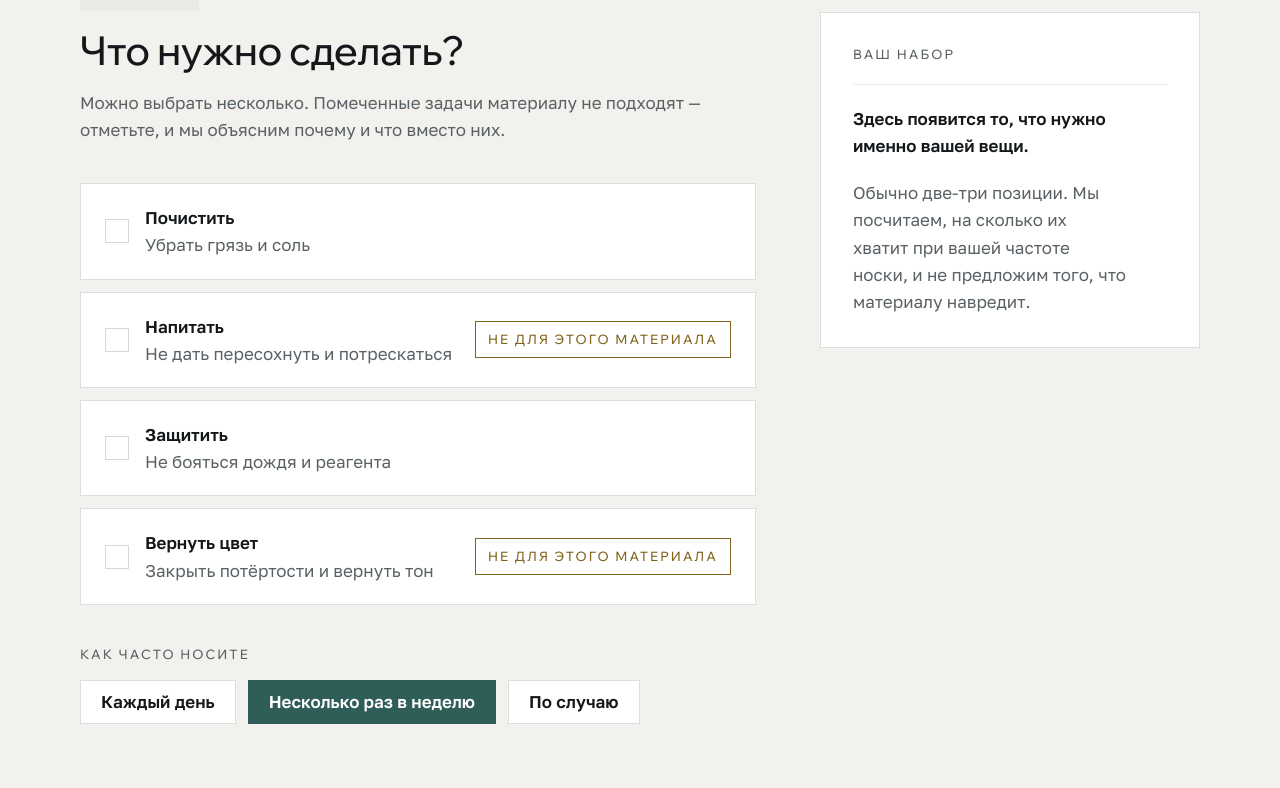
Configurator › состояние 3: конфликт объясняется, предлагает замену, флажок остаётся отмечен
This screenshot has width=1280, height=788.
(page scrolled)
Click the checkbox labelled "Вернуть цвет".
click(202, 543)  # box [80,508,756,605]
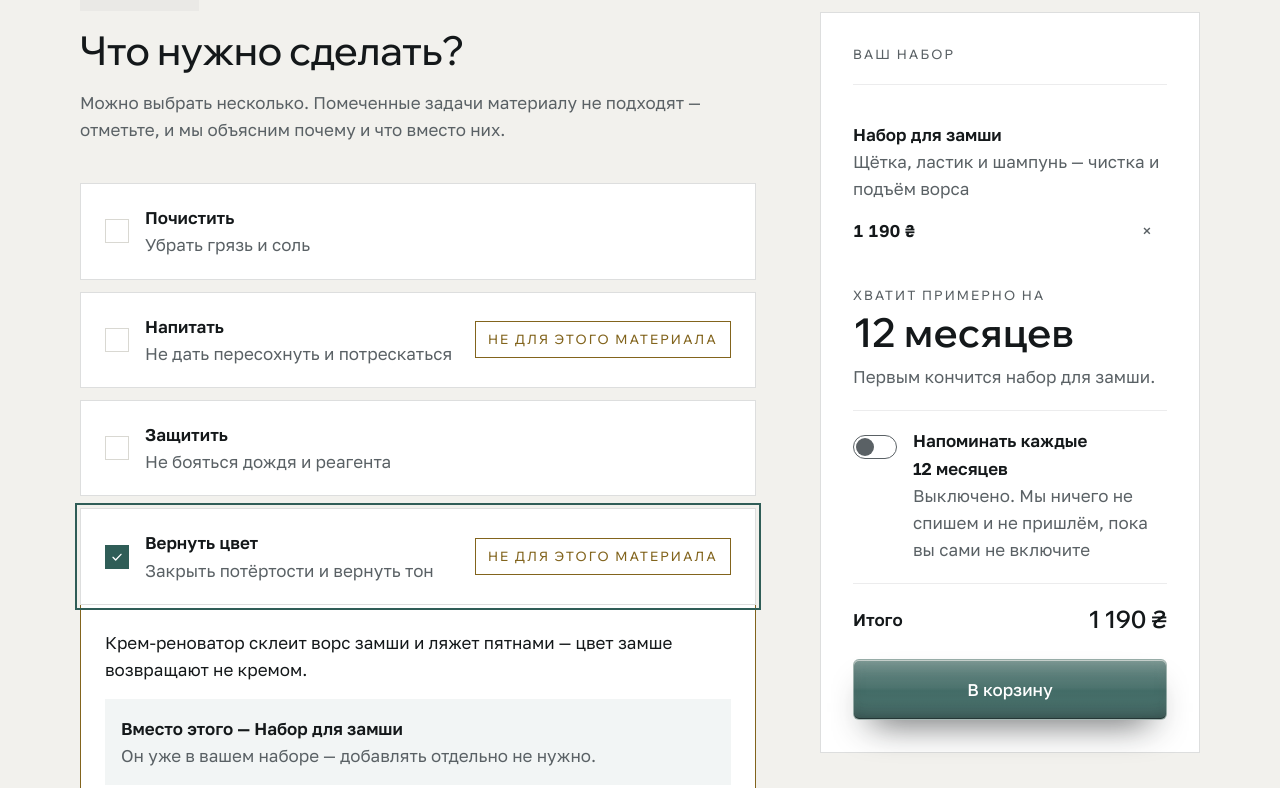
Expected: the text "склеит ворс замши" is shown, [105,632,672,680]
Expected: the text "Вместо этого — Набор для замши" is shown, [121,718,403,739]
